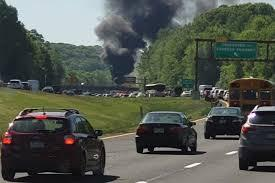smoke: (104, 3, 173, 75)
